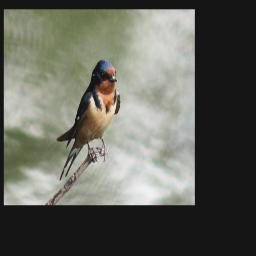Swallow: (59, 58, 122, 182)
